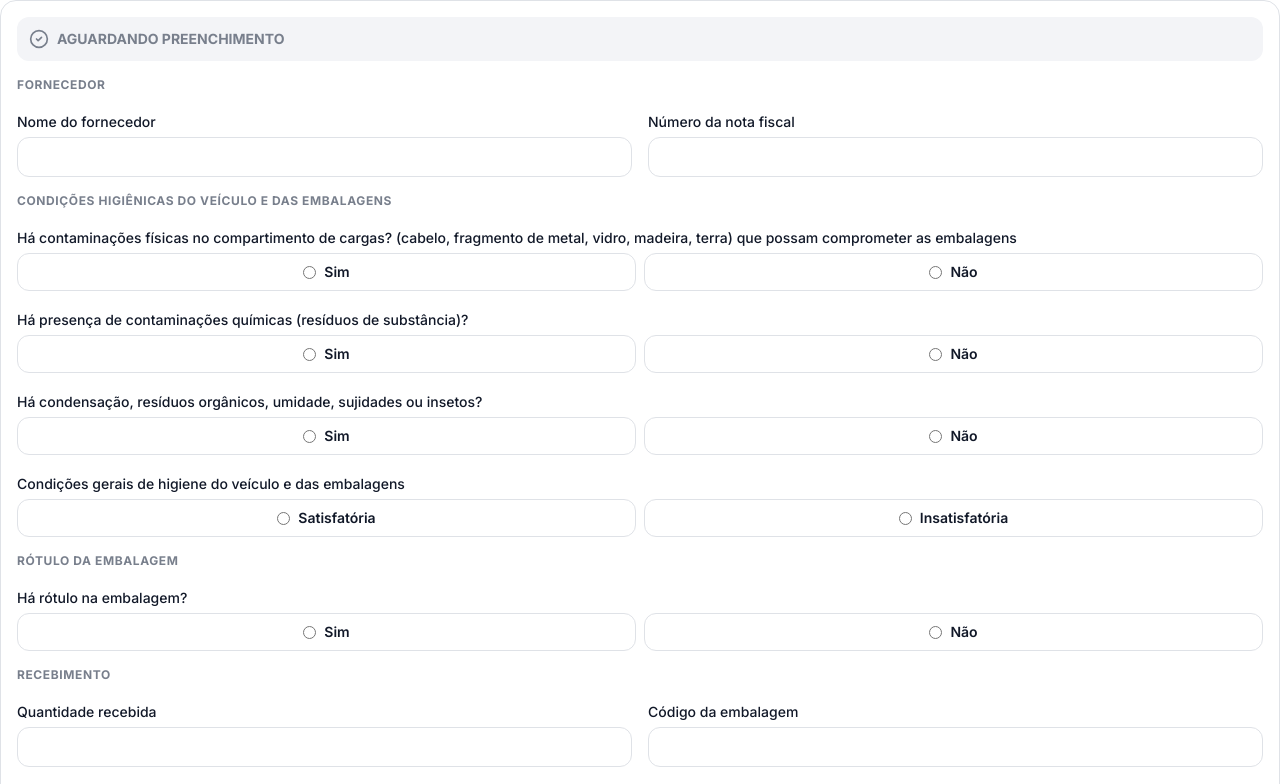
Test: RecebimentoEmbalagensField › abre as perguntas do rótulo só quando há rótulo e marca não conforme
Check: the text "Leiaute de acordo com a ficha técnica da embalagem?" is not shown
Click the radio button labelled "Sim" below "Há rótulo na embalagem?": (310, 632) 303,626 -> 316,638
(page scrolled)
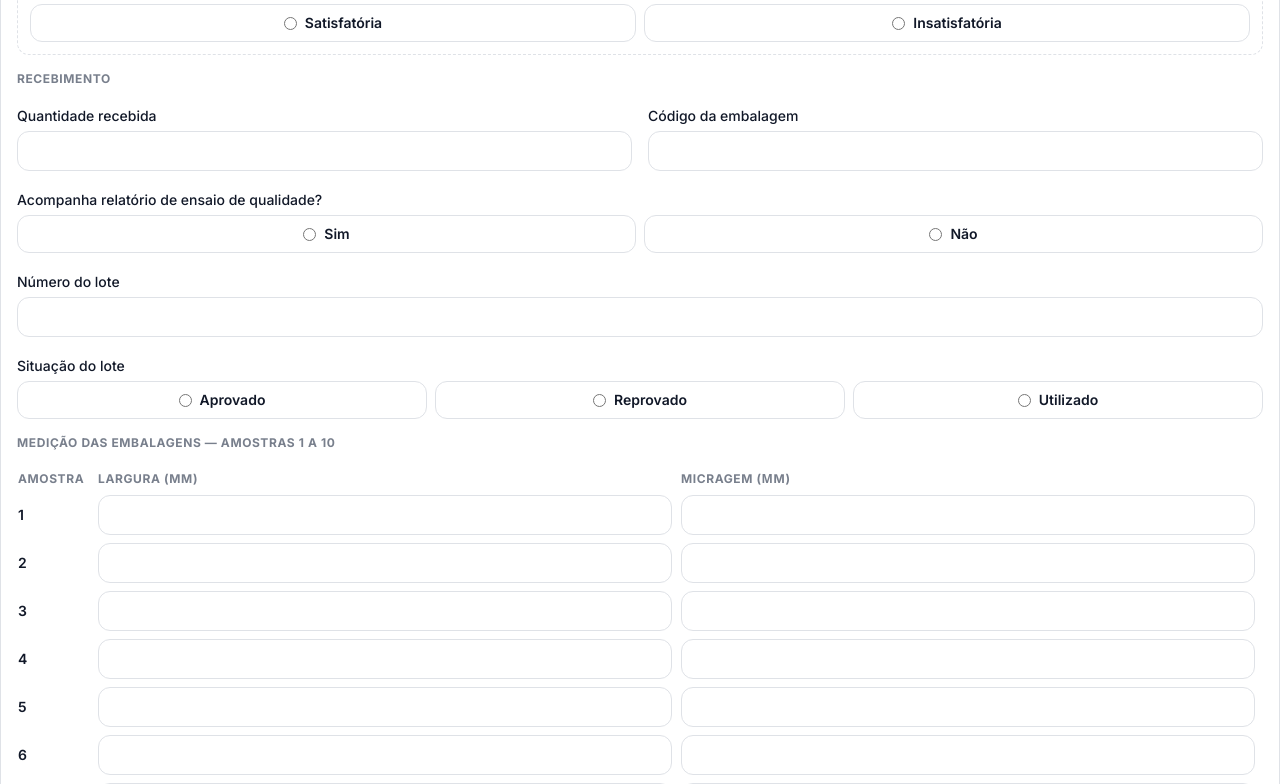
Click the radio button labelled "Reprovado": (600, 400) 593,394 -> 606,406
(page scrolled)
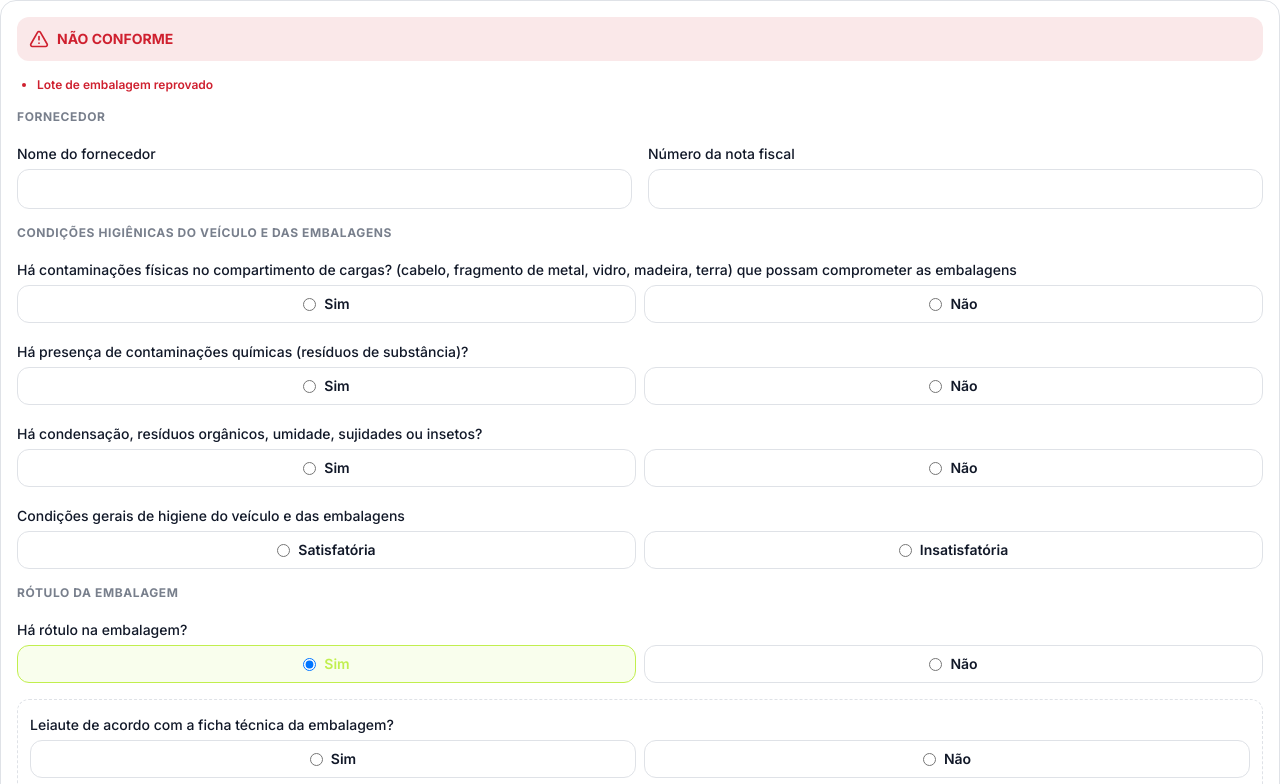
Check: the text "NÃO CONFORME" is shown, box 17,17 -> 1263,61
